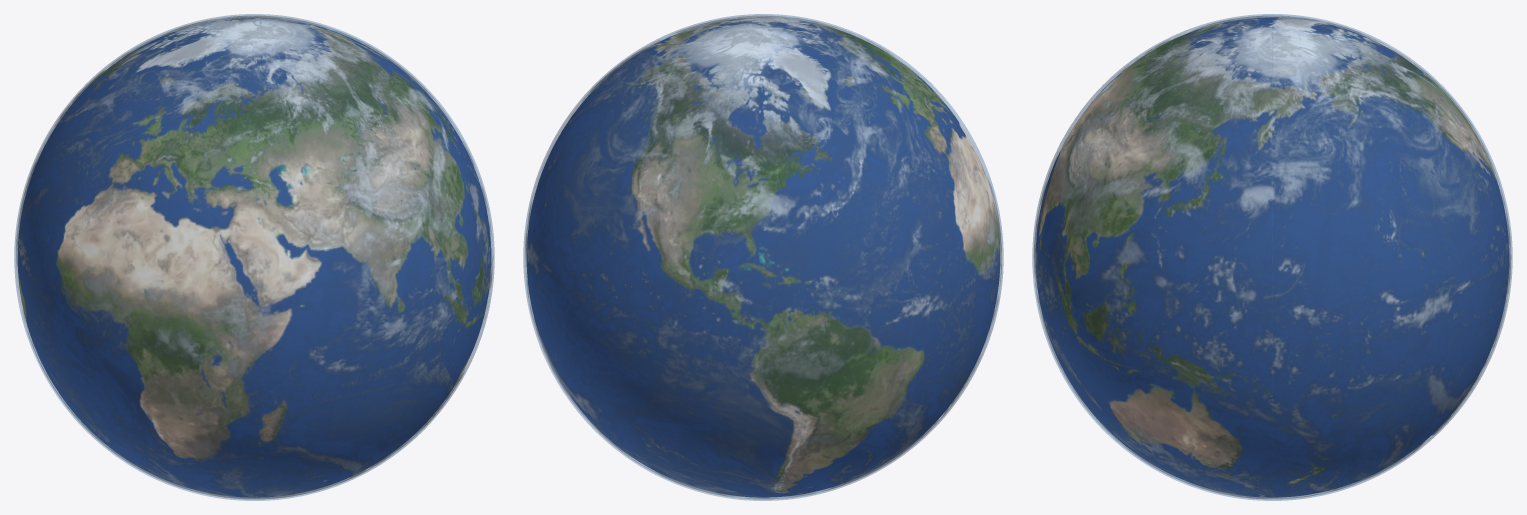
The picture shows the model from 3 angles, left to right: view 1: azimuth 30°, elevation 25°; view 2: azimuth 150°, elevation 25°; view 3: azimuth 270°, elevation 25°; orthographic projection.
Visible parts, largest first — view 1: pSphere5_lambert7_0, pSphere1_phong1_0, pSphere4_lambert6_0; view 2: pSphere5_lambert7_0, pSphere1_phong1_0, pSphere4_lambert6_0; view 3: pSphere5_lambert7_0, pSphere1_phong1_0, pSphere4_lambert6_0.
Part boxes in pixels (box(x1,y1,x2,y2)): pSphere5_lambert7_0: box(14, 14, 494, 500); pSphere1_phong1_0: box(17, 17, 491, 497); pSphere4_lambert6_0: box(16, 15, 492, 499); pSphere5_lambert7_0: box(523, 14, 1003, 500); pSphere1_phong1_0: box(526, 17, 1000, 497); pSphere4_lambert6_0: box(525, 15, 1001, 499); pSphere5_lambert7_0: box(1032, 14, 1512, 500); pSphere1_phong1_0: box(1035, 17, 1509, 497); pSphere4_lambert6_0: box(1034, 15, 1511, 499).
Bounding box in the file's own units: 192 × 196 × 192.
3 materials, 2 textured.
